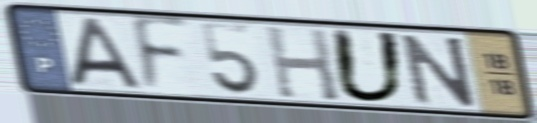5: (198, 20, 264, 99)
A: (68, 15, 144, 90)
F: (128, 13, 194, 97)
H: (262, 23, 344, 104)
N: (397, 32, 480, 108)
U: (327, 26, 409, 106)
